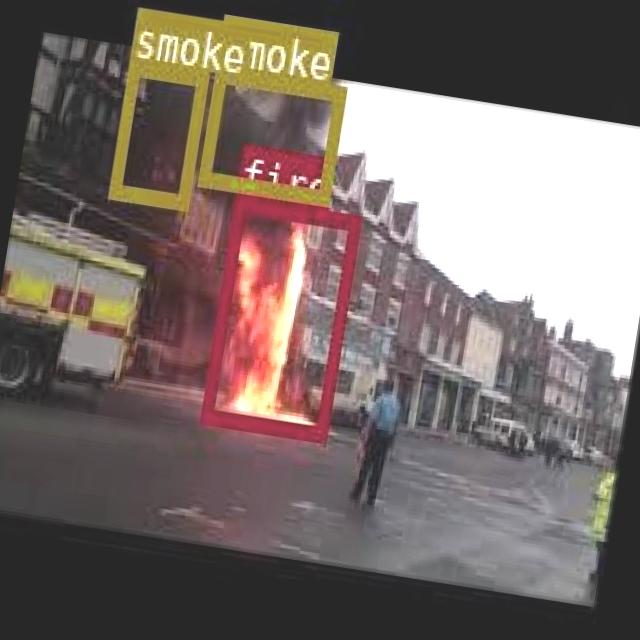fire: (199, 194, 359, 439)
smoke: (196, 64, 346, 202), (106, 57, 208, 208)
